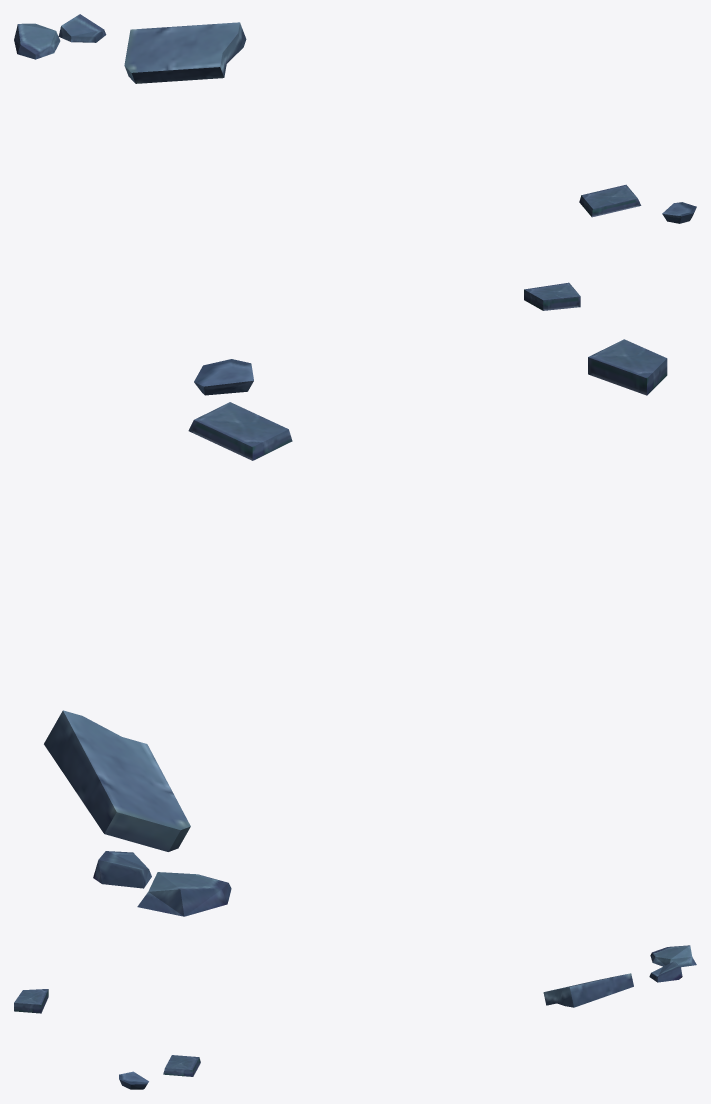
Rendered from Area08_29.fbx.
3 views of the same model, one above another, from view 1: azimuth 30°, elevation 25°; view 2: azimuth 150°, elevation 25°; view 3: azimuth 270°, elevation 25° (orthographic). The views are drawn at different scales.
Visible parts, largest first — view 1: Area08_29; view 2: Area08_29; view 3: Area08_29.
Boxes of the visible parts, x1,y1,x2,y2 form: Area08_29: (14,14,696,310); Area08_29: (44,339,667,916); Area08_29: (14,945,696,1089).
Bounding box in the file's own units: 1062 × 152 × 2239.
Materials: 1 (1 with a texture image).
